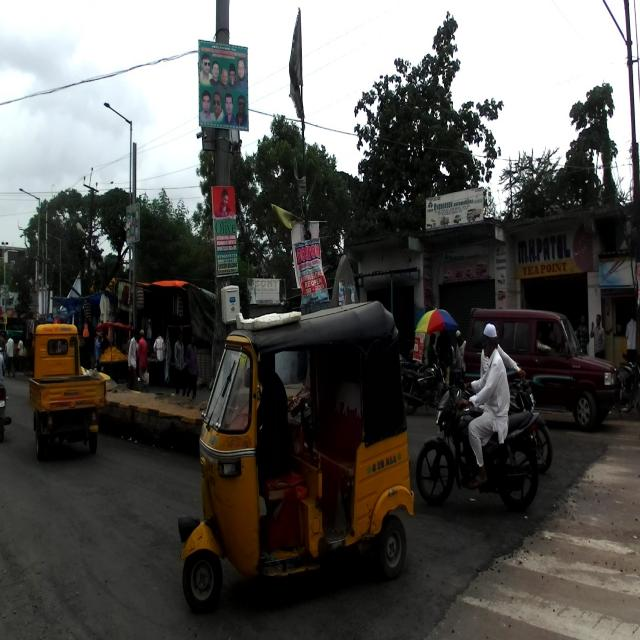Car_Toyota: (461, 304, 626, 430)
autorickshaw: (177, 300, 415, 618), (28, 320, 107, 460)
motorcycle_Honda: (415, 361, 547, 515)
motorcycle_Yamaha: (506, 371, 554, 474)
